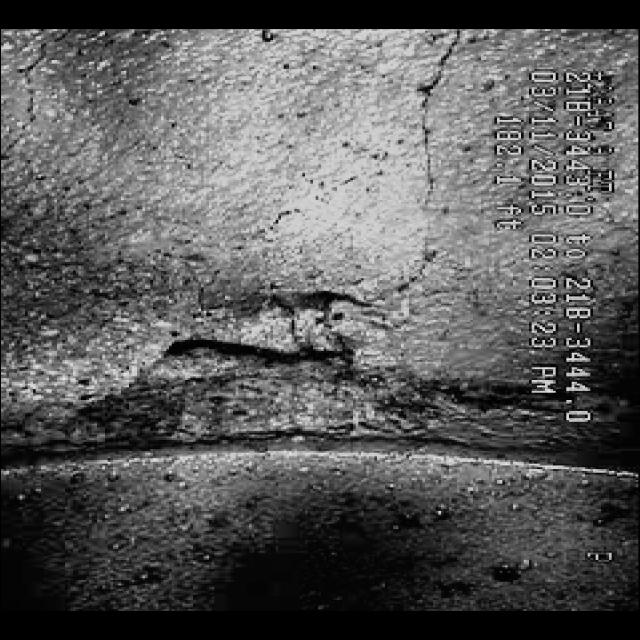Crack: (365, 54, 473, 270)
